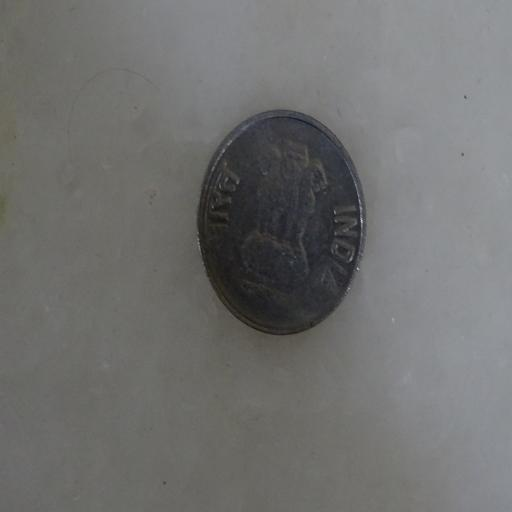rupee1: (193, 109, 367, 336)
